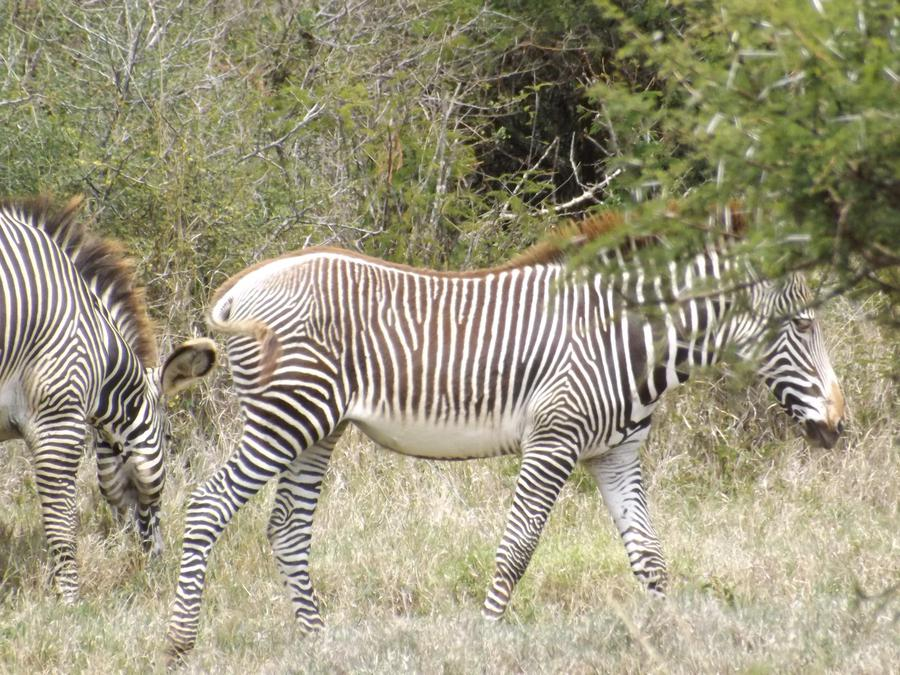zebra_grevys: (209, 256, 618, 445)
